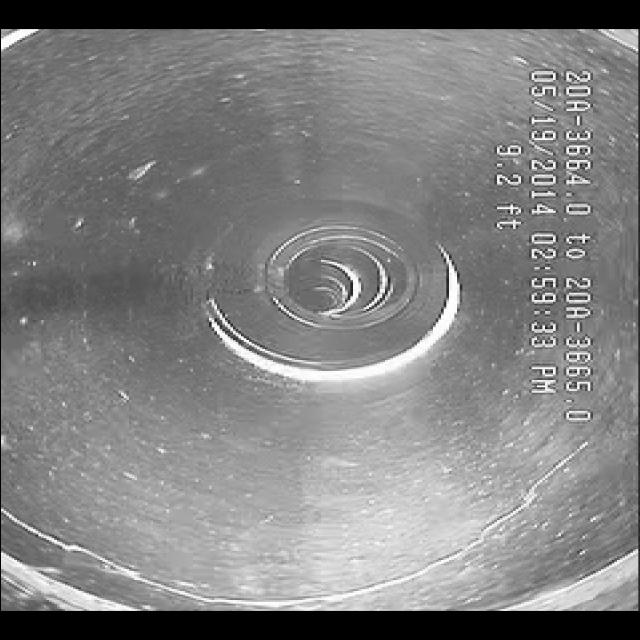Crack: (12, 494, 570, 612)
